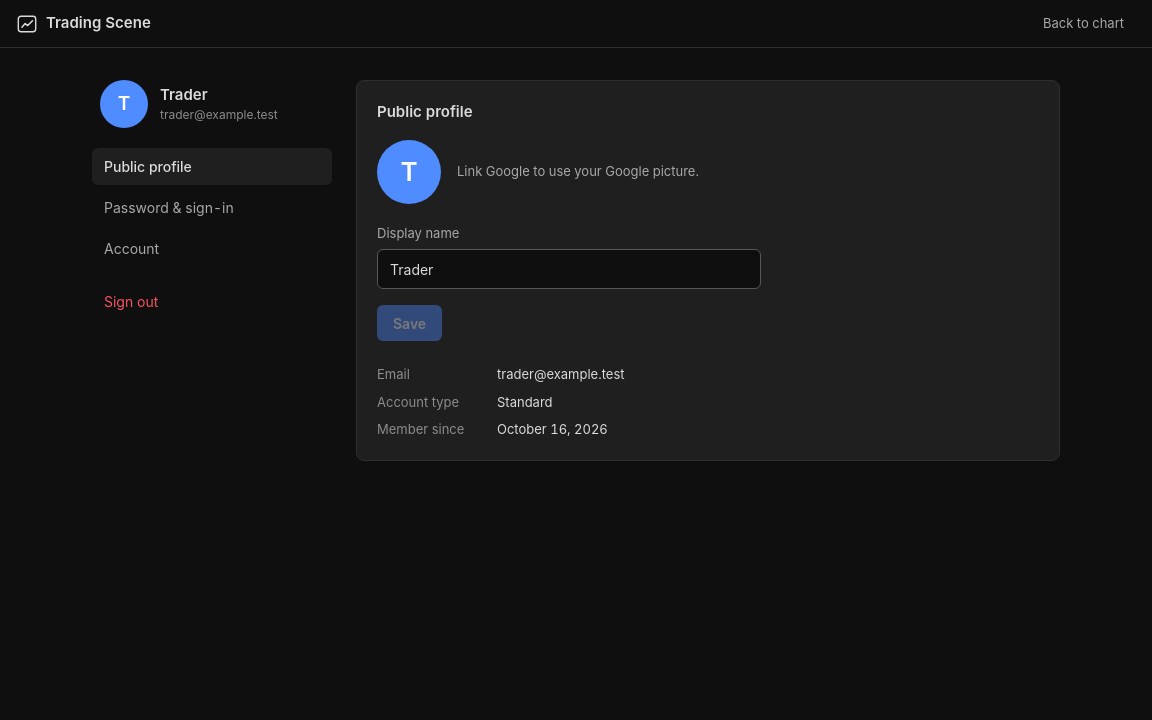
Test: the profile asks for the current password before changing it
The image size is (1152, 720).
Click the button "Password & sign-in" at (212, 208), box x1=92 y1=189 x2=332 y2=226
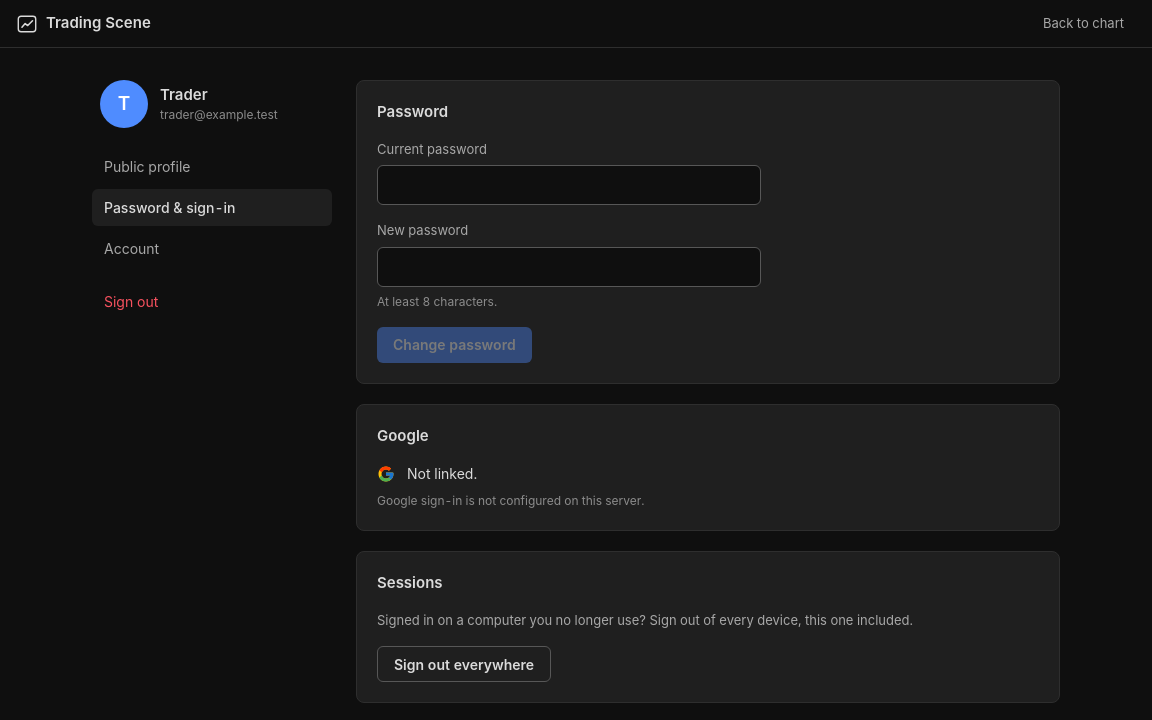
Type "new password 1" into the password field labelled "New password" at (569, 266), box x1=377 y1=246 x2=761 y2=286
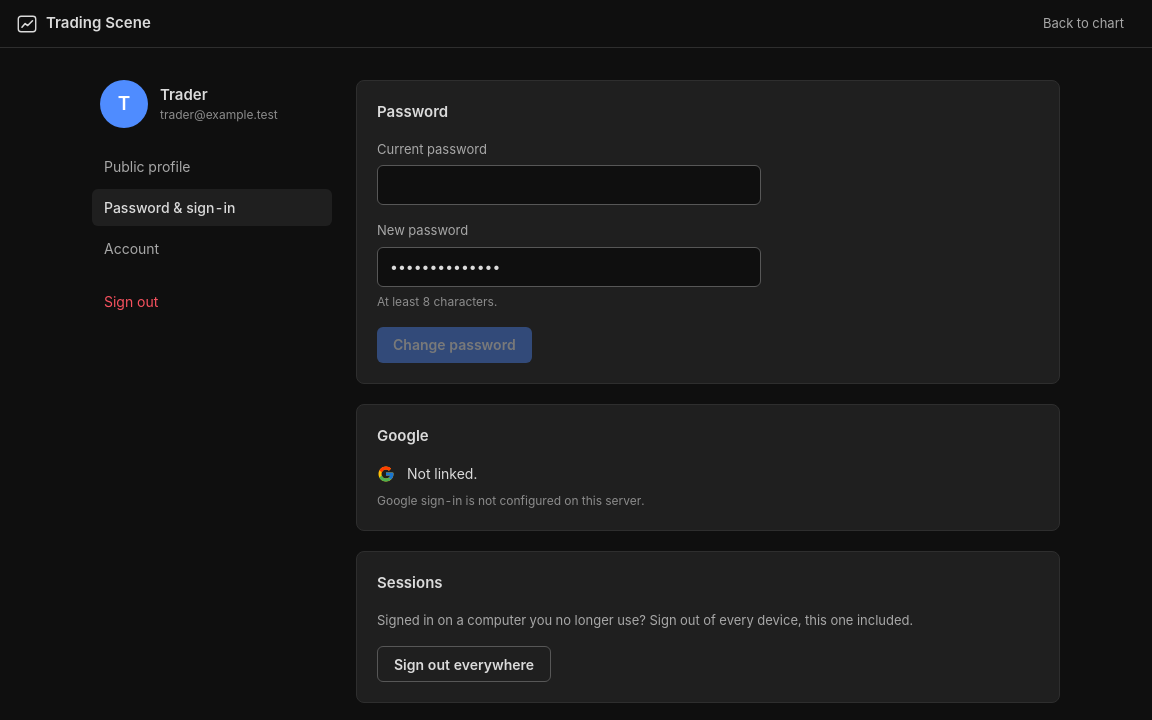
Type "old password 1" into the password field labelled "Current password" at (569, 185), box x1=377 y1=165 x2=761 y2=205
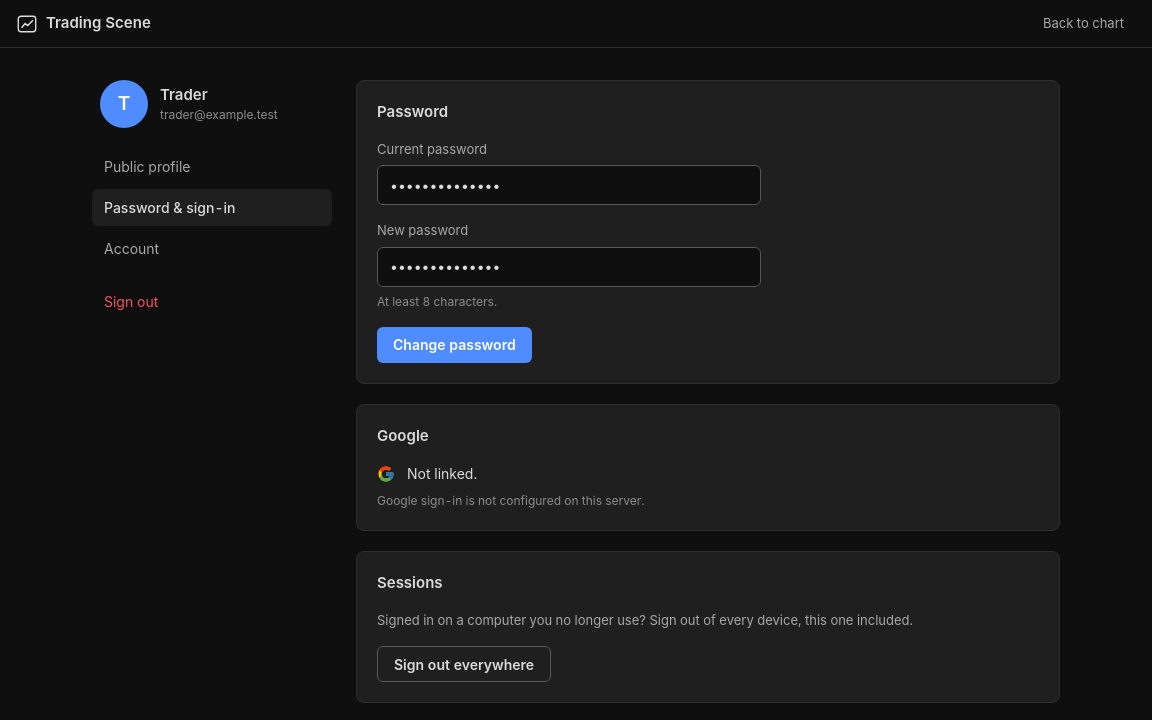
Click the button "Change password" at (454, 344), box x1=377 y1=326 x2=532 y2=362
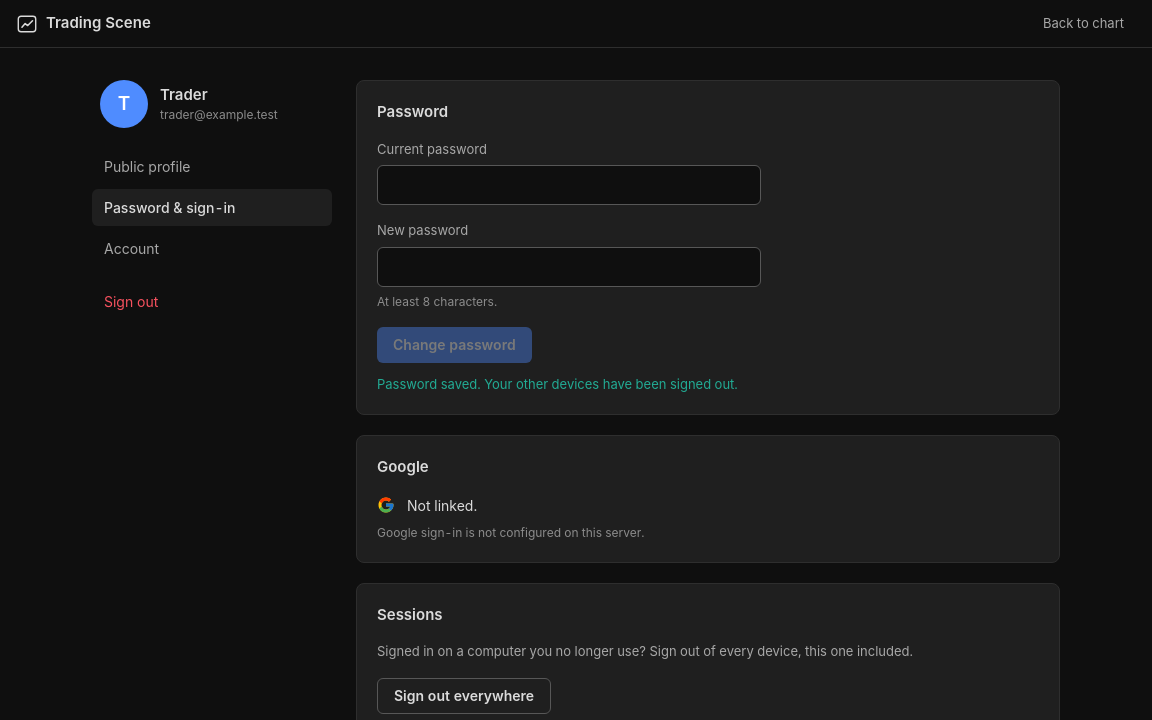
Result: the message shows "other devices have been signed out" at x1=377 y1=376 x2=738 y2=392
